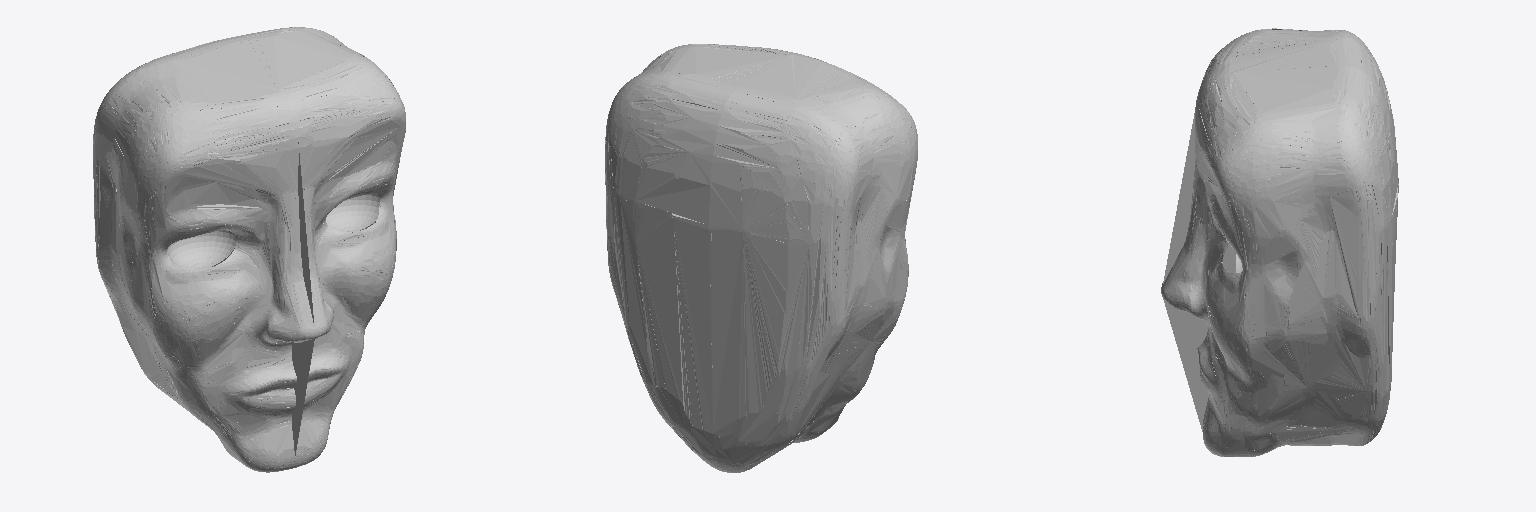
The model's file is Sculpting.obj.
3 views of the same model, side by side, from view 1: azimuth 30°, elevation 25°; view 2: azimuth 150°, elevation 25°; view 3: azimuth 270°, elevation 25° (orthographic).
Parts seen in each view (by area): view 1: Mask; view 2: Mask; view 3: Mask.
Part boxes in pixels (x1,y1,x2,y2): Mask: (93, 27, 405, 472); Mask: (605, 44, 917, 472); Mask: (1161, 28, 1398, 456).
Bounding box in the file's own units: 2.24 × 3.08 × 1.74.